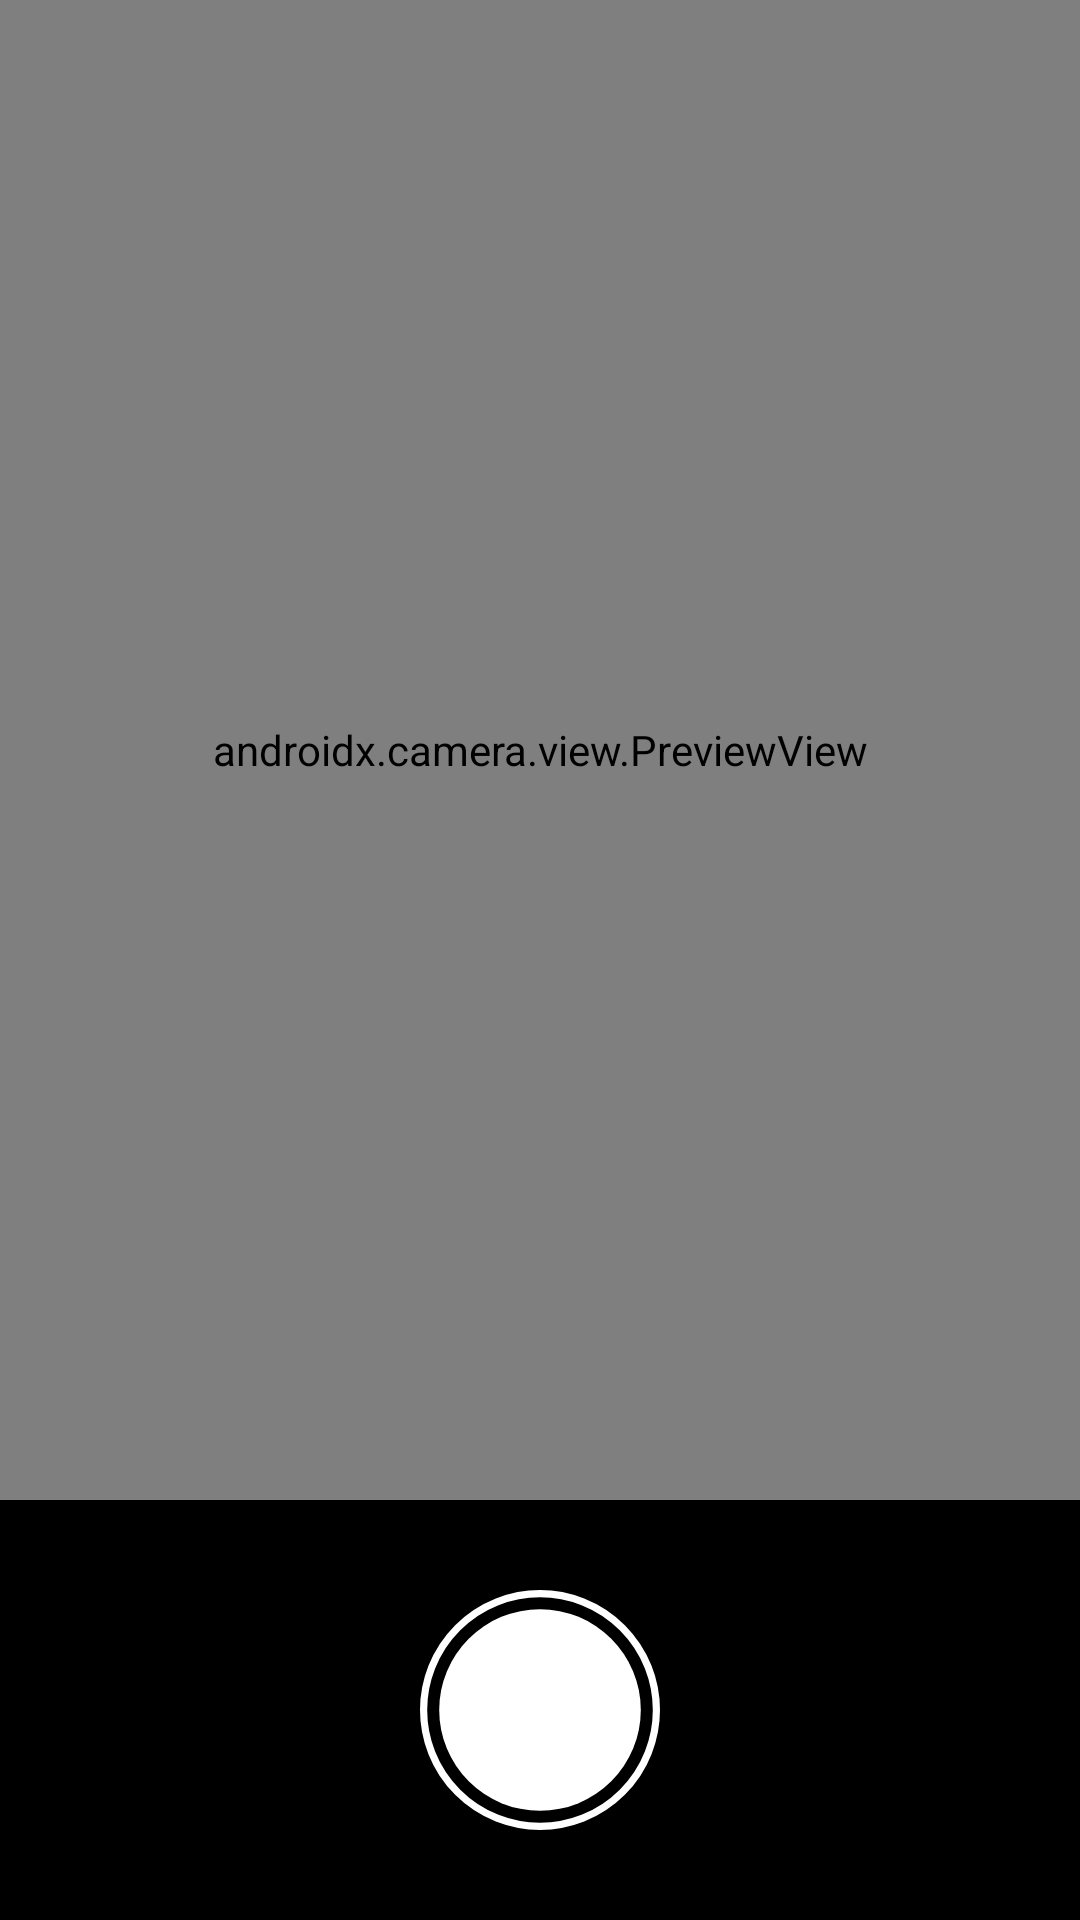

Named icons in this screenshot (1080 × 1920) and their centers, (x,y):
shutter: (540,1710)
